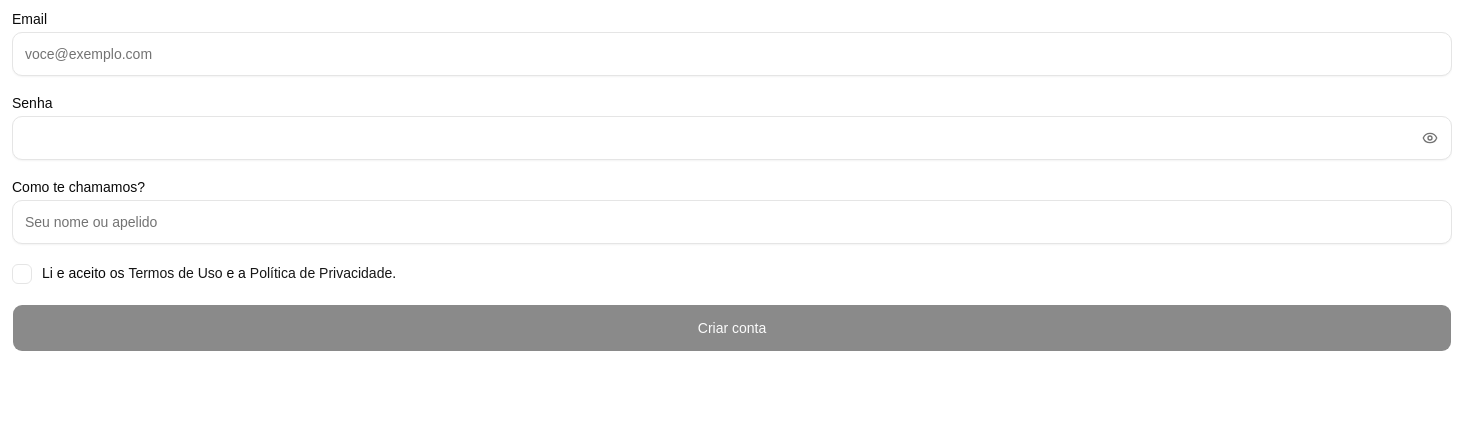
Test: SignupForm › mostra erro inline quando a senha é curta demais (no blur)
This screenshot has width=1464, height=428.
Type "123" into the password field labelled "Senha".
click(732, 138); type("123")  # box [12,116,1452,160]
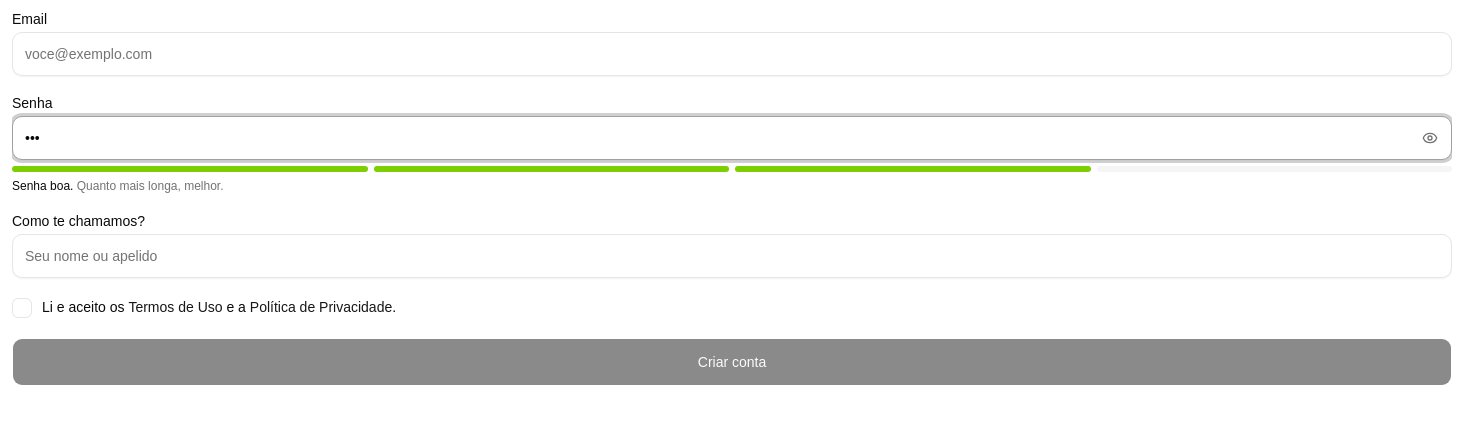
Press Tab
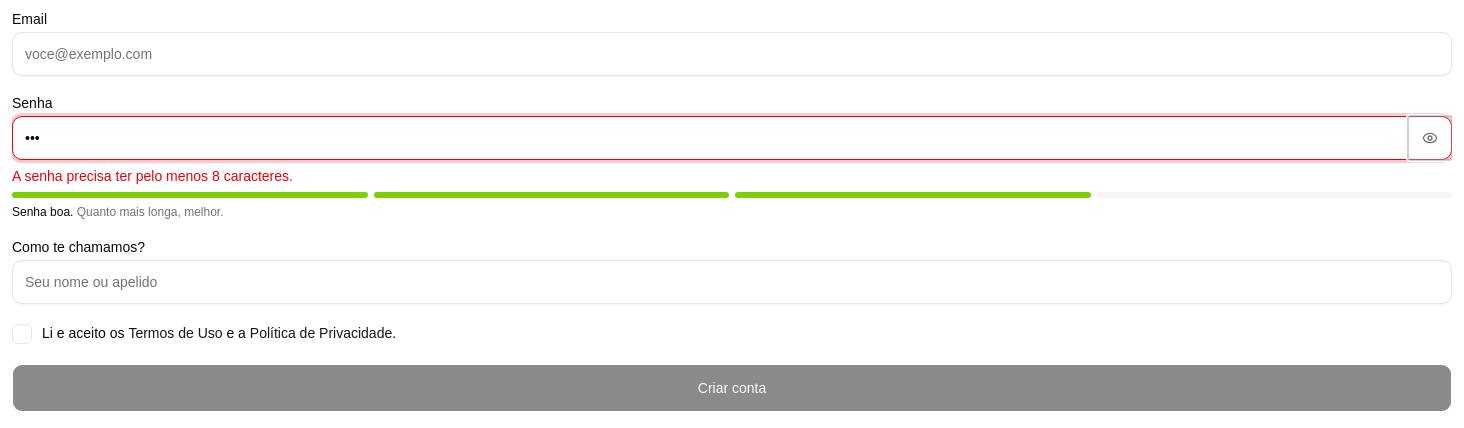
Expected: the text "A senha precisa ter pelo menos 8 caracteres." is shown, [12,168,293,184]
